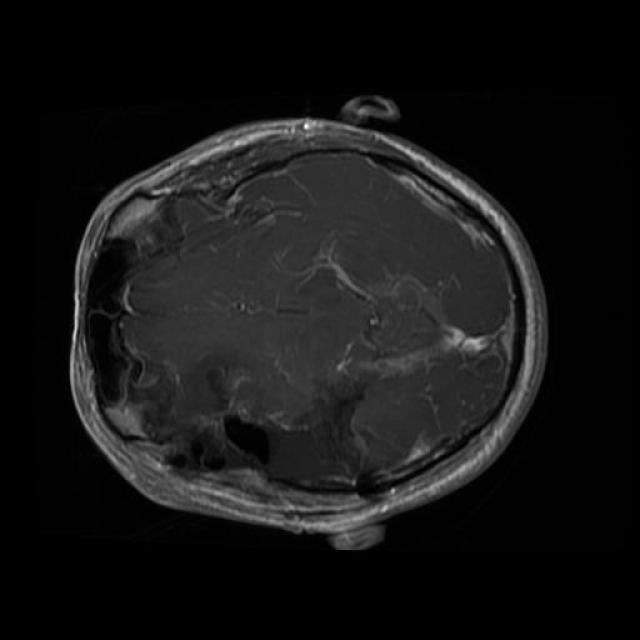Glioma: (264, 420, 356, 485), (228, 421, 264, 459)
